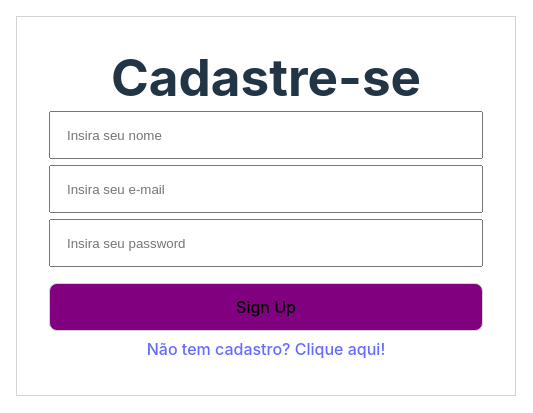
Scenario: Testa a pagina de Sign Up › Quando clicar em 'Já tem cadastro ....' deve ir para tela de login
This screenshot has width=533, height=413.
Step 1. Click the link "Não tem cadastro? Clique aqui!" → click(267, 349), box [147,339,386,359]
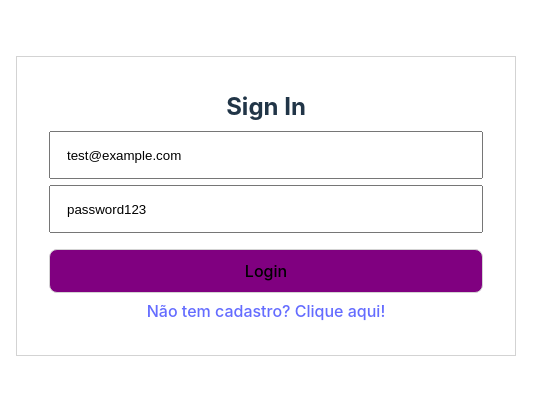
Check: the button "Login" is shown, box [49,249,483,293]
